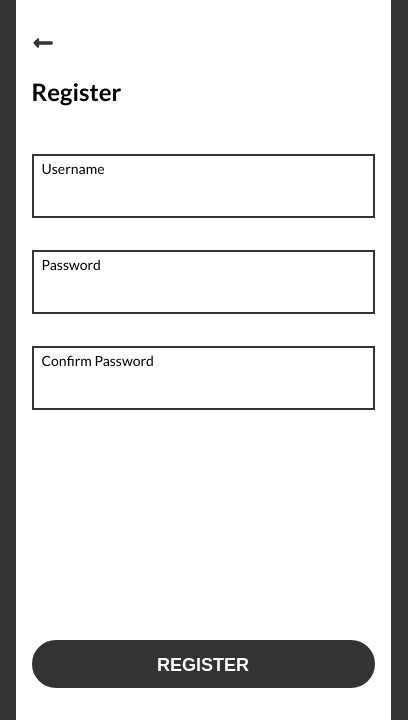
Test: fields validation › validate all fields are empty
The width and height of the screenshot is (408, 720).
Click the button "REGISTER" at {"x": 203, "y": 664}, box [32,640,374,688]
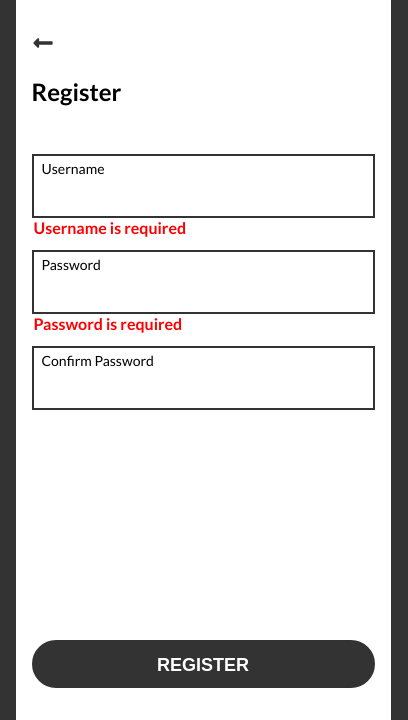
Now the messages read "Username is required", "Password is required", in this order, box [34,218,186,237]; [34,314,182,333]
